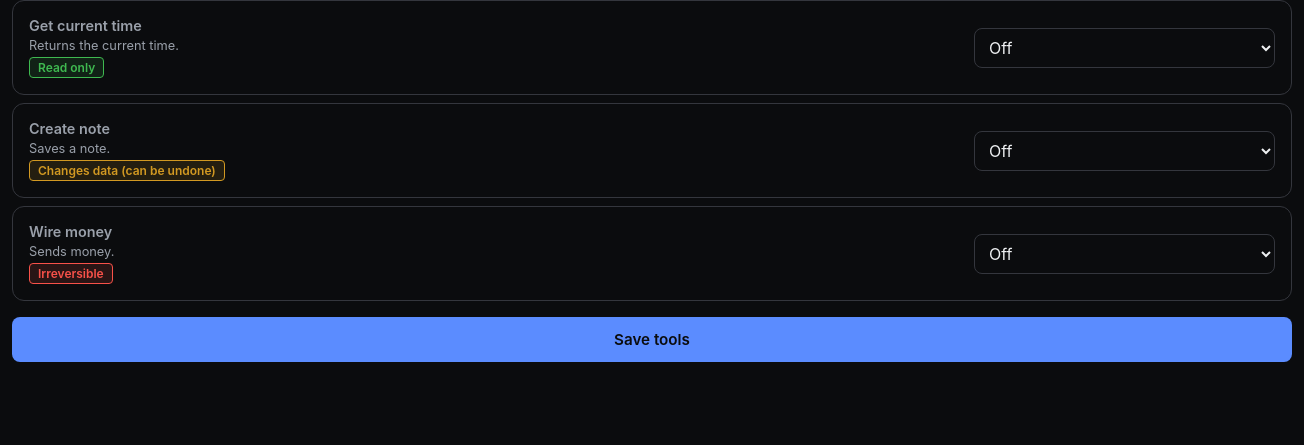
Scenario: ToolBindingsEditor › warns that automatic writes skip the human check
Expected: the text "without asking a person" is not shown
Select "Run automatically" in the dropdown labelled "Create note" at point(1124, 150), box [974,130,1275,170]
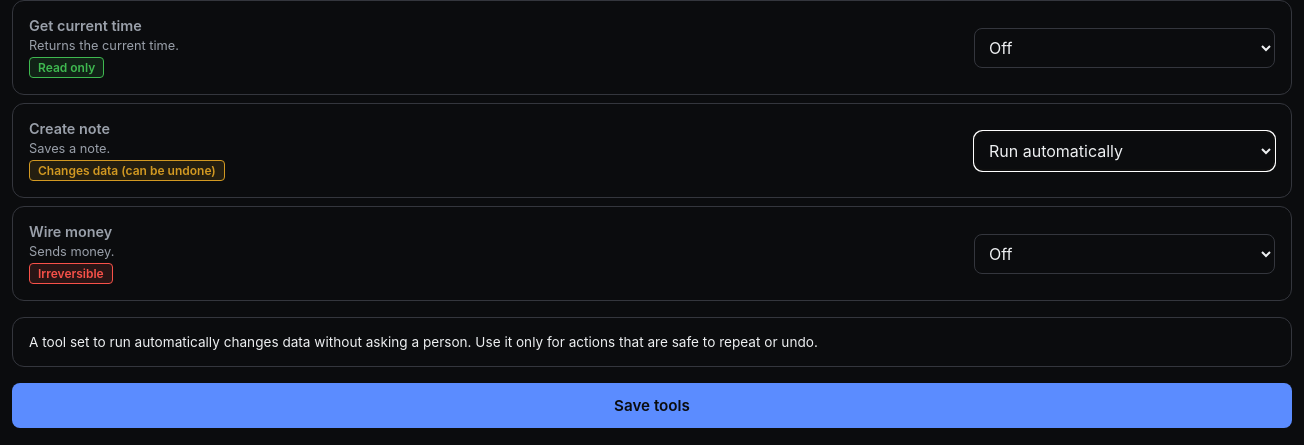
Now the text "without asking a person" is shown, box [29,334,818,350]
